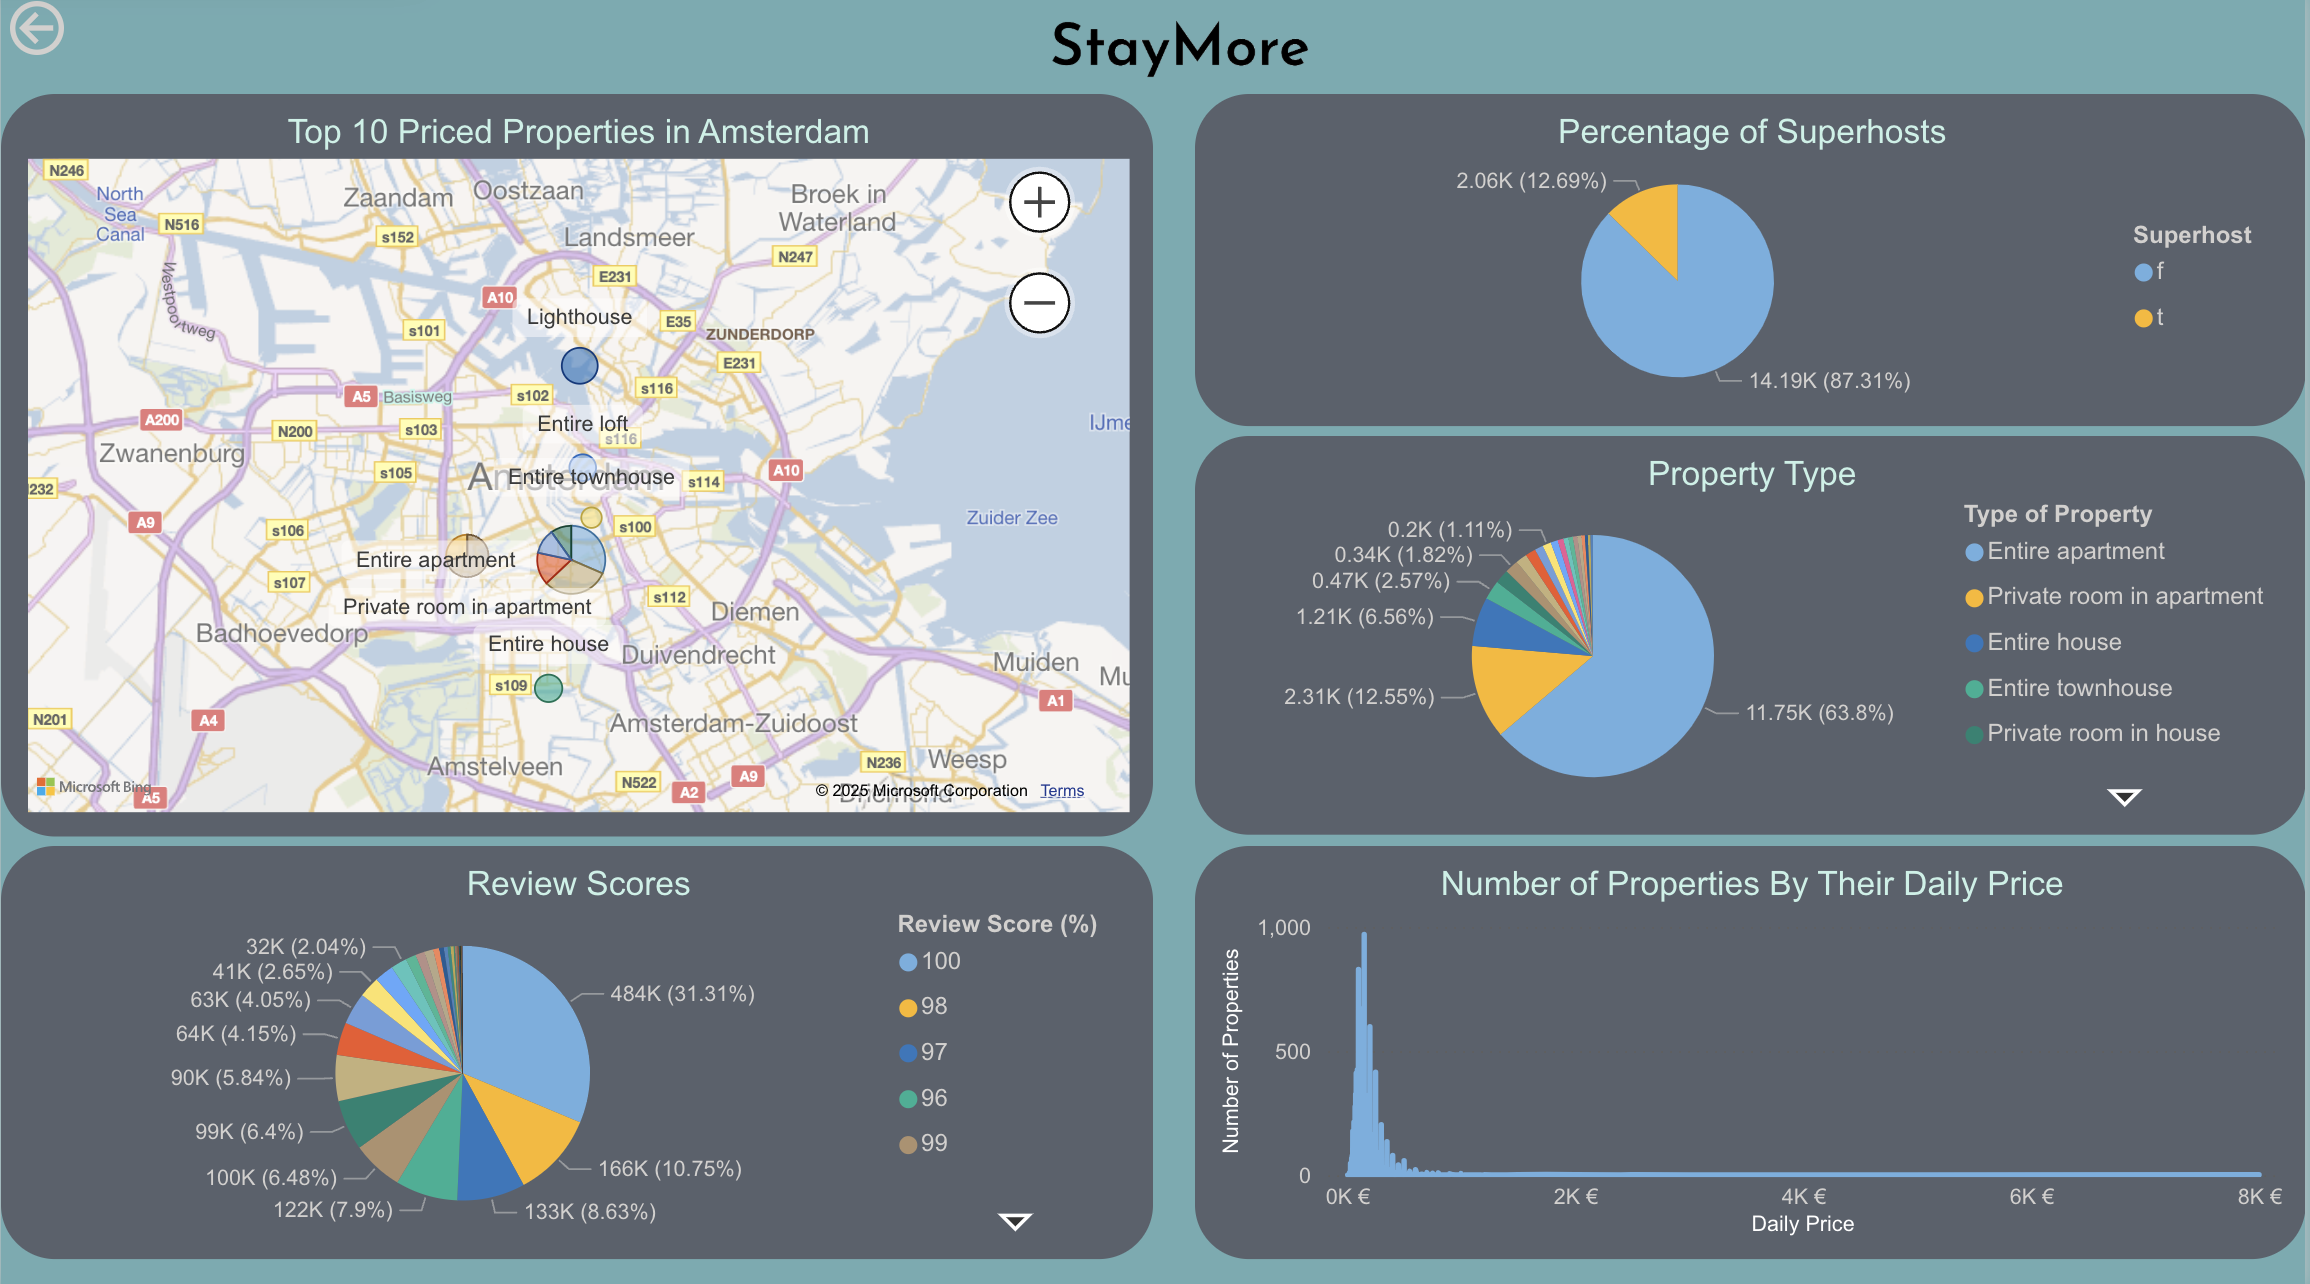

Layout of this report page (visuals, bound fields, positions):
{"tool":"powerbi","page":{"name":"Reports","canvas":[1280,720],"ordinal":0},"visuals":[{"type":"map","title":"Top 10 Priced Properties in Amsterdam","fields":{"Size":["Avg(dimProperty.Daily_Price)"],"Y":["Avg(dimProperty.latitude)"],"X":["Avg(dimProperty.longitude)"],"Category":["dimProperty.neighbourhood","dimProperty.review_scores_rating","dimProperty.property_type"],"Series":["dimProperty.propertyid"]},"box":[0,56.3,640,412.3],"z":0},{"type":"pieChart","title":"Percentage of Superhosts","fields":{"Category":["dimHosts.host_is_superhost"],"Y":["CountNonNull(dimHosts.host_is_superhost)"]},"box":[662.9,56.3,617.1,184.6],"z":1000},{"type":"actionButton","box":[0,0,100,40],"z":2000},{"type":"pieChart","title":"Property Type","fields":{"Category":["dimProperty.property_type"],"Y":["CountNonNull(dimProperty.property_type)"]},"box":[662.9,247,617.1,221.5],"z":3000},{"type":"areaChart","title":"Number of Properties By Their Daily Price","fields":{"Y":["CountNonNull(dimProperty.propertyid)"],"Category":["dimProperty.Daily_Price"]},"box":[662.9,474.7,617.1,229.5],"z":4000},{"type":"pieChart","title":"Review Scores","fields":{"Y":["Sum(dimProperty.review_scores_rating)"],"Category":["dimProperty.review_scores_rating"]},"box":[0,474.7,640,229.5],"z":5000},{"type":"image","box":[502.9,0,299.8,56.3],"z":6000}]}

Visuals, with their boxes in screenshot pixels (x1, y1, x2, y2), scaled from the page's 1280x720 canvas onto the 2310x1284 screenshot:
"Top 10 Priced Properties in Amsterdam" map: (0, 100, 1155, 836)
"Percentage of Superhosts" pieChart: (1196, 100, 2309, 430)
actionButton: (0, 0, 180, 71)
"Property Type" pieChart: (1196, 440, 2309, 835)
"Number of Properties By Their Daily Price" areaChart: (1196, 847, 2309, 1256)
"Review Scores" pieChart: (0, 847, 1155, 1256)
image: (908, 0, 1449, 100)
